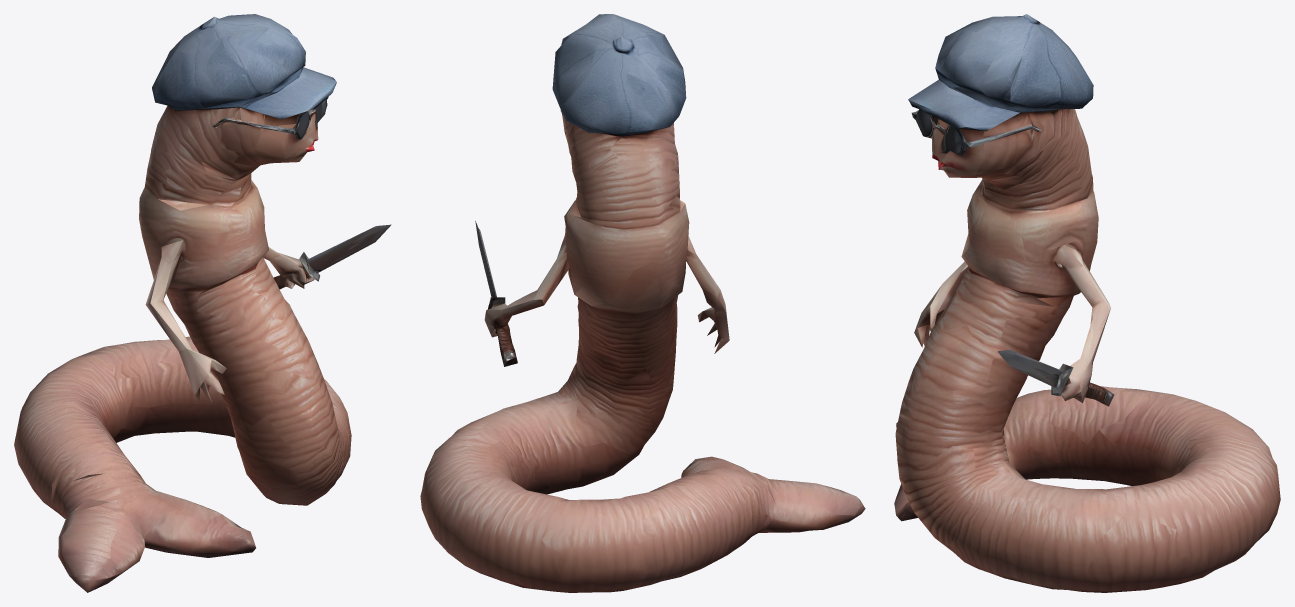
File: Worman.glb
3 renders of one model, left to right at view 1: azimuth 30°, elevation 25°; view 2: azimuth 150°, elevation 25°; view 3: azimuth 270°, elevation 25°, orthographic. The views are drawn at different scales.
Parts seen in each view (by area): view 1: Worman; view 2: Worman; view 3: Worman.
Part boxes in pixels (x1,y1,x2,y2): Worman: (14, 14, 391, 592); Worman: (420, 14, 865, 592); Worman: (894, 14, 1280, 592).
Bounding box in the file's own units: 1.44 × 1.9 × 1.28.
Materials: 1 (1 with a texture image).
